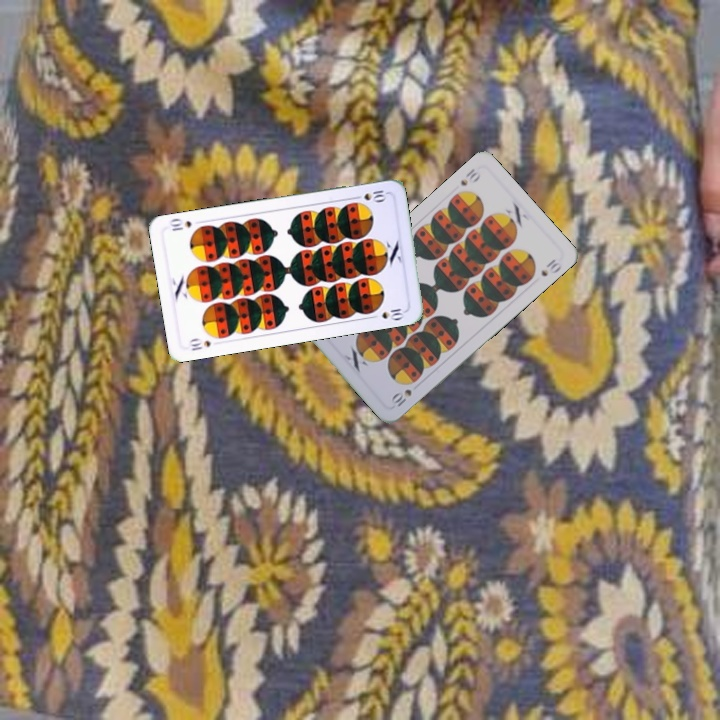S10: (349, 186, 389, 204), (387, 385, 414, 411), (456, 164, 483, 188), (186, 335, 214, 353)
